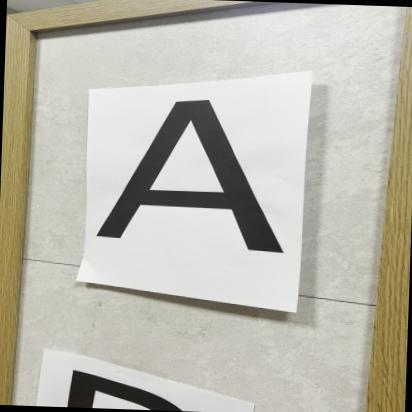seat: (78, 96, 298, 292), (82, 92, 288, 282)
